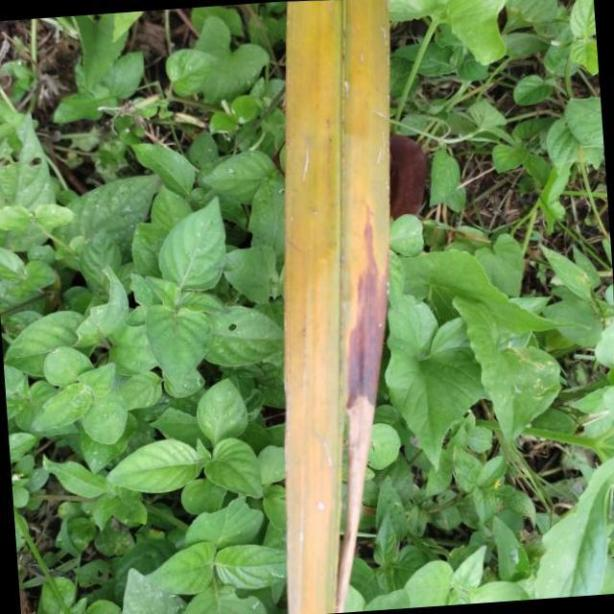Megnesium: (283, 0, 393, 614)
